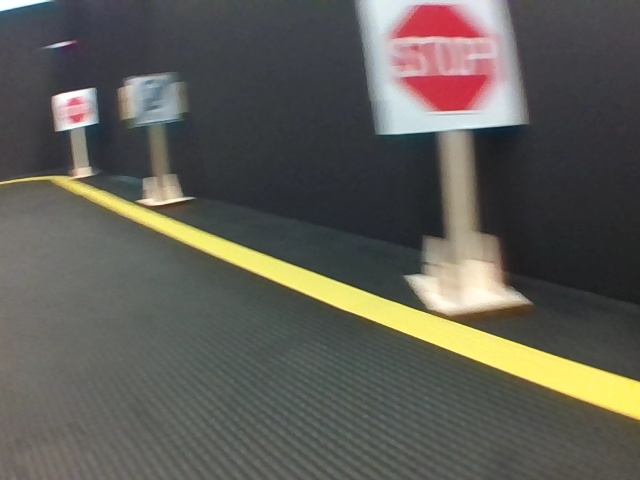no30: (129, 75, 179, 122)
stop: (368, 4, 522, 128), (57, 93, 93, 125)
